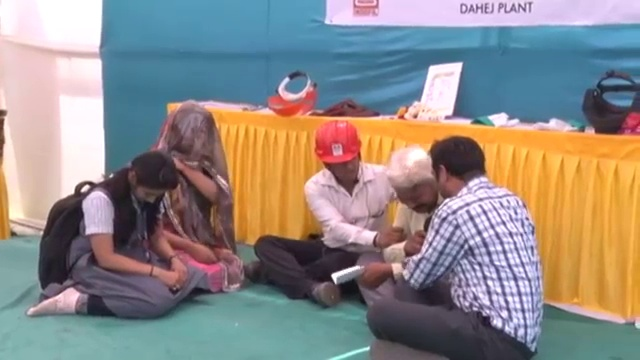helmet: (312, 118, 366, 169)
helmet_off: (430, 136, 490, 208), (159, 104, 220, 171), (119, 148, 179, 210), (389, 144, 435, 218)
helmet_on: (312, 118, 367, 186)
person: (366, 132, 545, 358), (12, 157, 222, 320), (254, 107, 394, 306), (149, 91, 240, 297), (353, 135, 438, 303)
